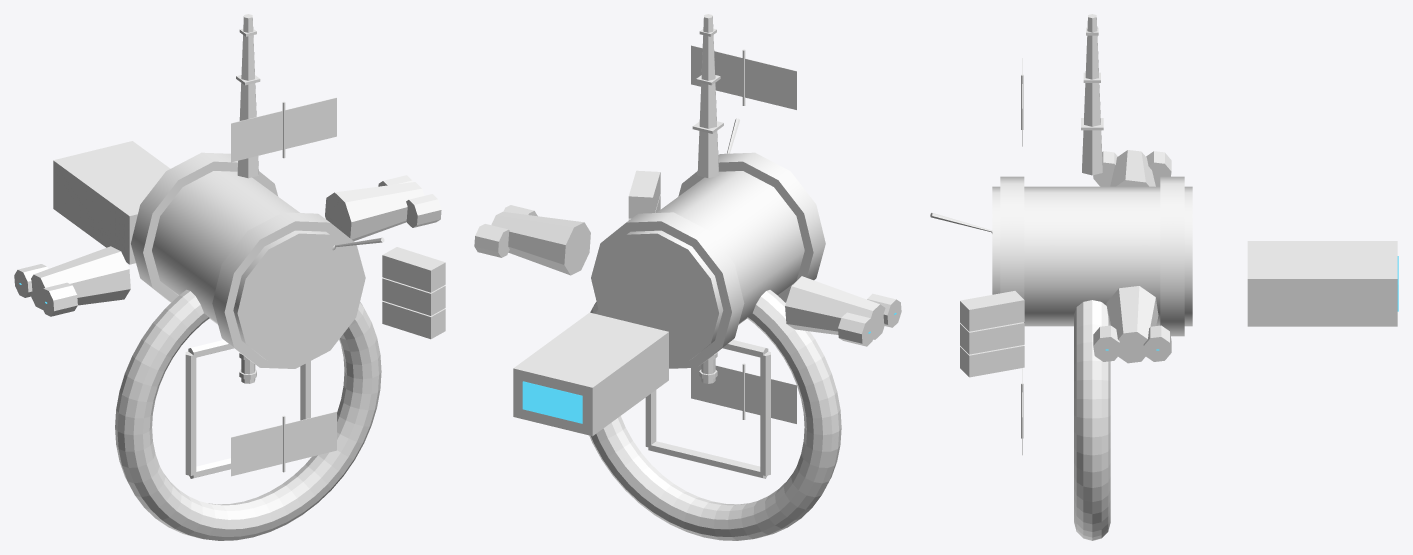
Rendered from PROP_SpaceStation_01.glb.
The picture shows the model from 3 angles, left to right: view 1: azimuth 30°, elevation 25°; view 2: azimuth 150°, elevation 25°; view 3: azimuth 270°, elevation 25°; orthographic projection.
Parts seen in each view (by area): view 1: PROP_SpaceStation_01, PROP_SpaceStation_01_Core_01_LOD0; view 2: PROP_SpaceStation_01, PROP_SpaceStation_01_Core_01_LOD0; view 3: PROP_SpaceStation_01, PROP_SpaceStation_01_Core_01_LOD0.
Boxes of the visible parts, <box> form: PROP_SpaceStation_01: <box>14,14,445,540</box>; PROP_SpaceStation_01_Core_01_LOD0: <box>131,152,365,368</box>; PROP_SpaceStation_01: <box>474,14,901,540</box>; PROP_SpaceStation_01_Core_01_LOD0: <box>591,152,825,368</box>; PROP_SpaceStation_01: <box>930,14,1398,540</box>; PROP_SpaceStation_01_Core_01_LOD0: <box>992,176,1192,336</box>.
Size of what is drawn, in the model's own units: 88.36 by 113 by 93.59.
